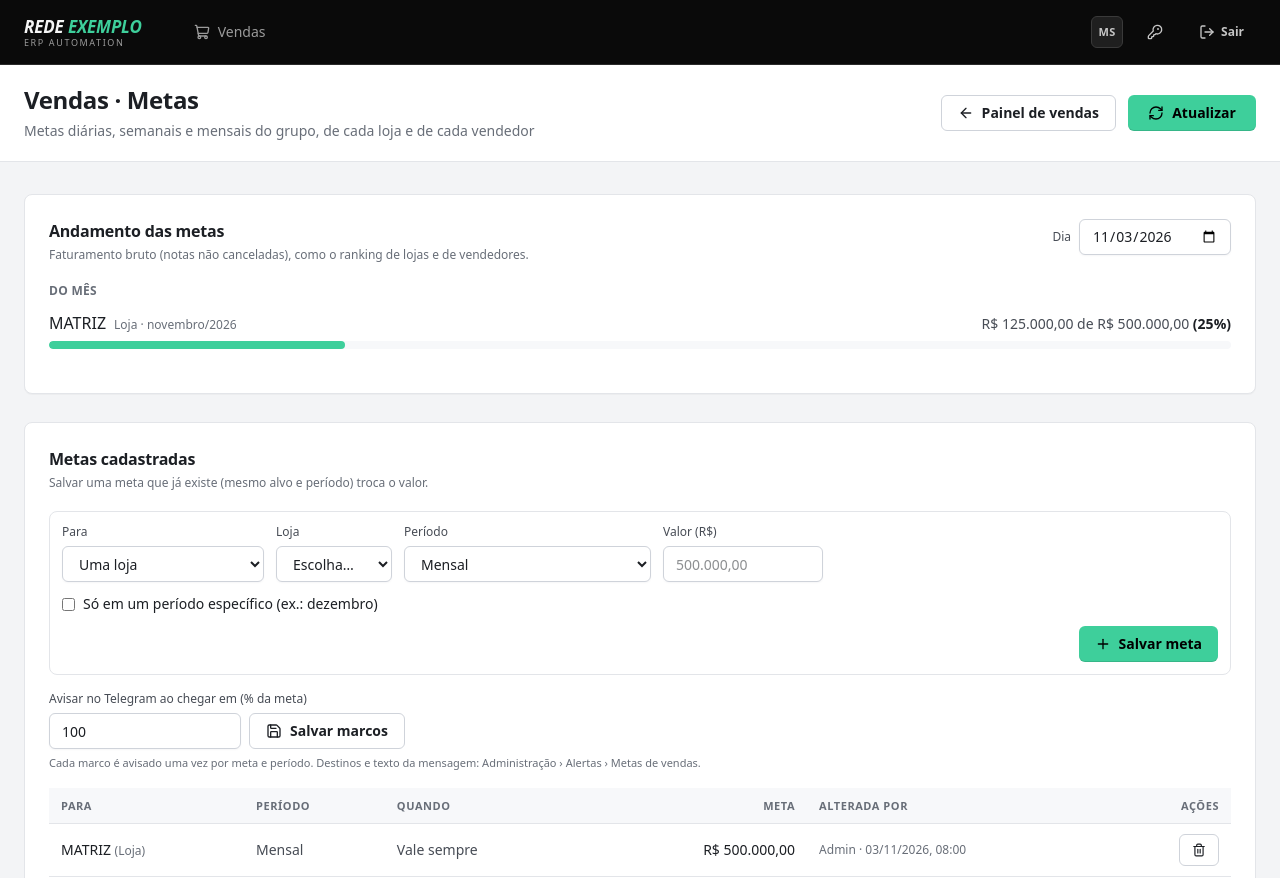
MetasPage › ADMIN cadastra a meta de um vendedor só para um mês
Select "Um vendedor" in the dropdown labelled "Para": x=163, y=564 [62,546,264,582]
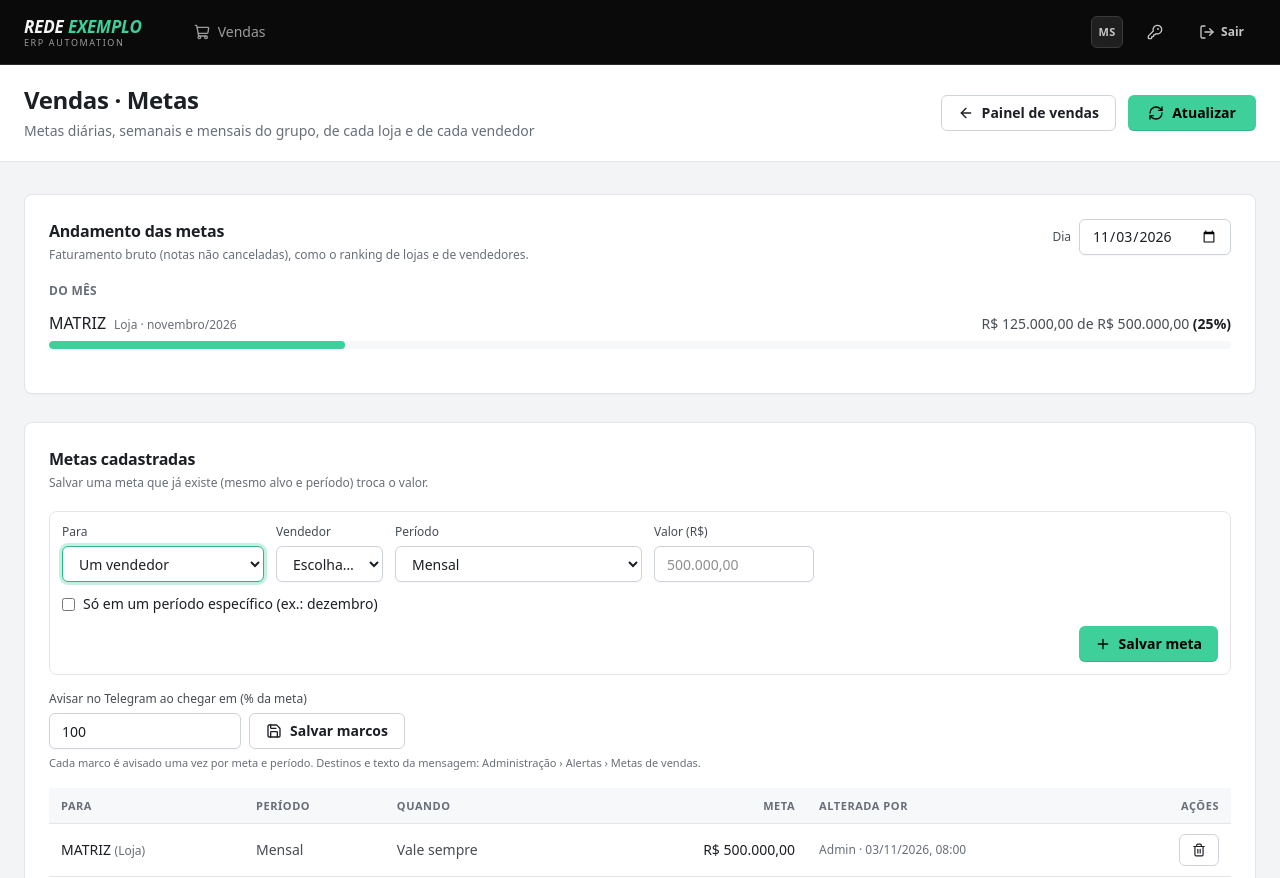
Select "CAMILA" in the dropdown labelled "Vendedor": x=330, y=564 [276,546,383,582]
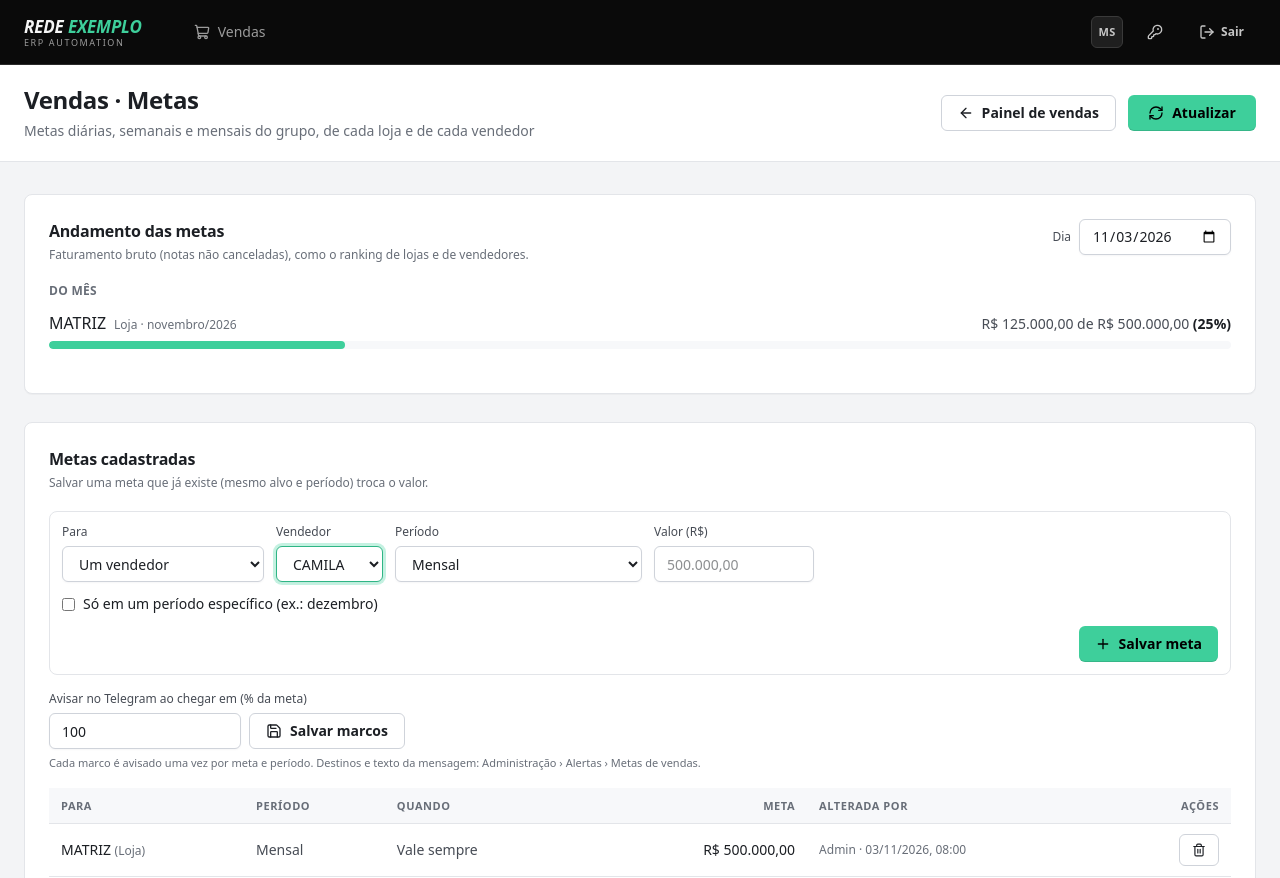
In the field labelled "Valor (R$)": x=734, y=564 [654,546,814,582], type "45.000,50"
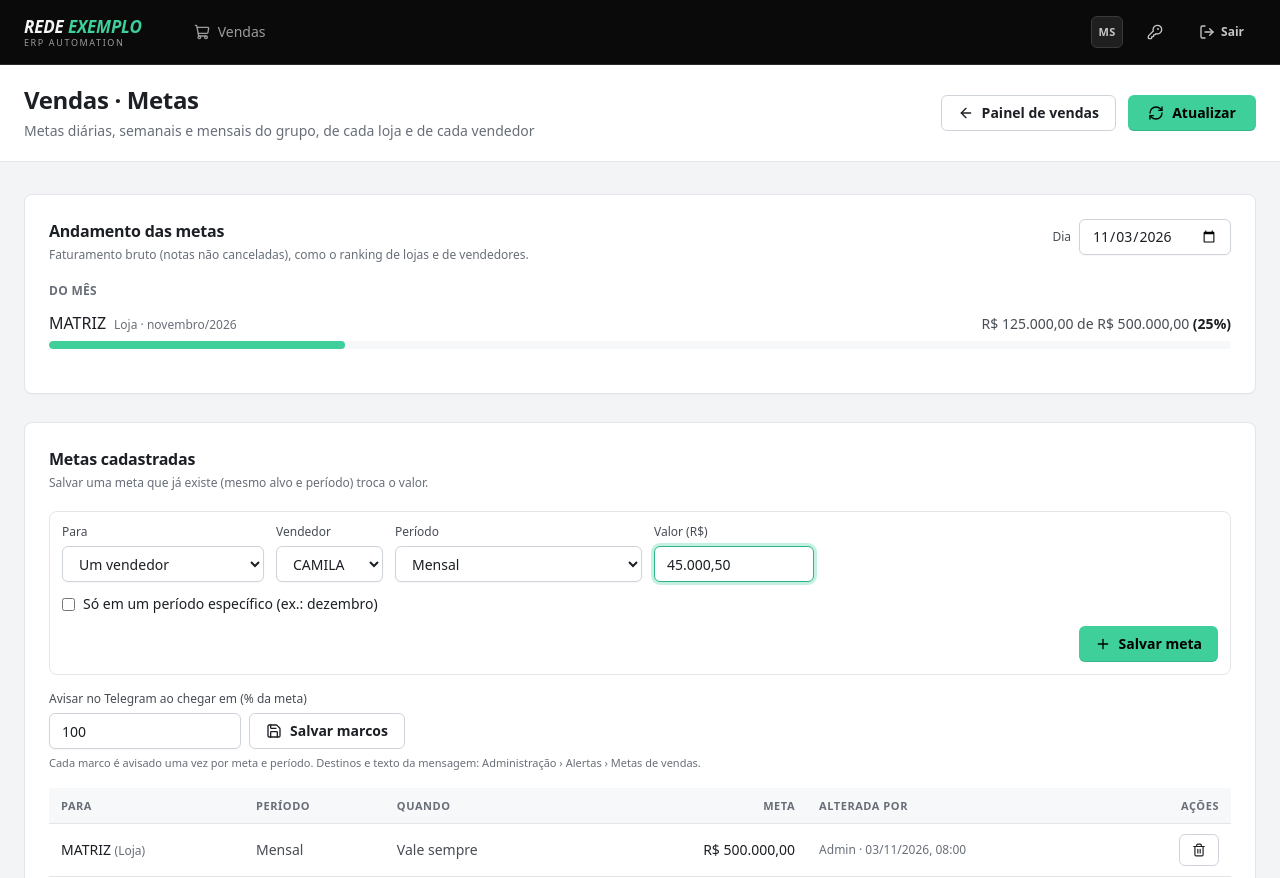
Click the checkbox labelled "Só em um período específico (ex.: dezembro)": x=68, y=604 [62,598,75,610]
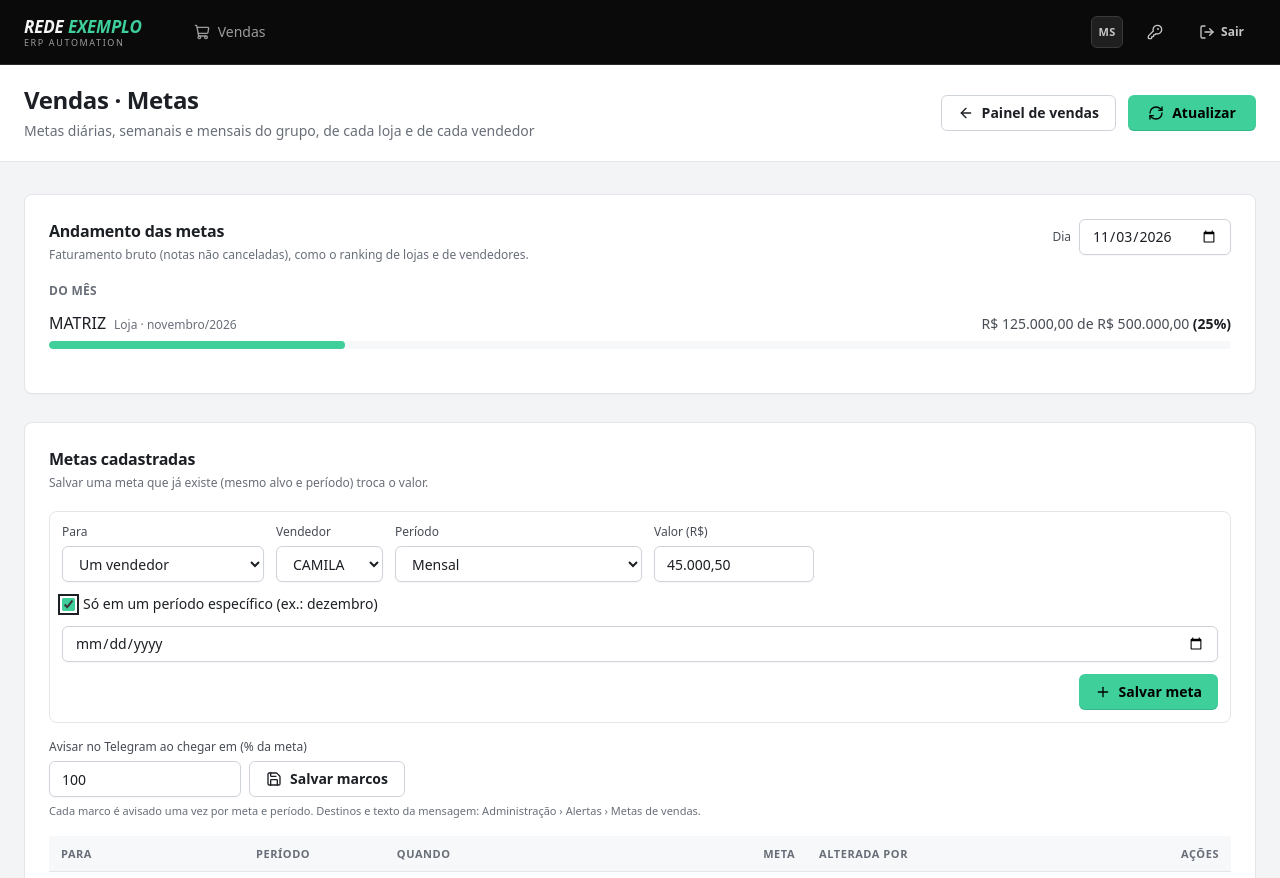
In the date field named "Data do período específico": x=640, y=644 [62,626,1218,662], type "2026-12-10"
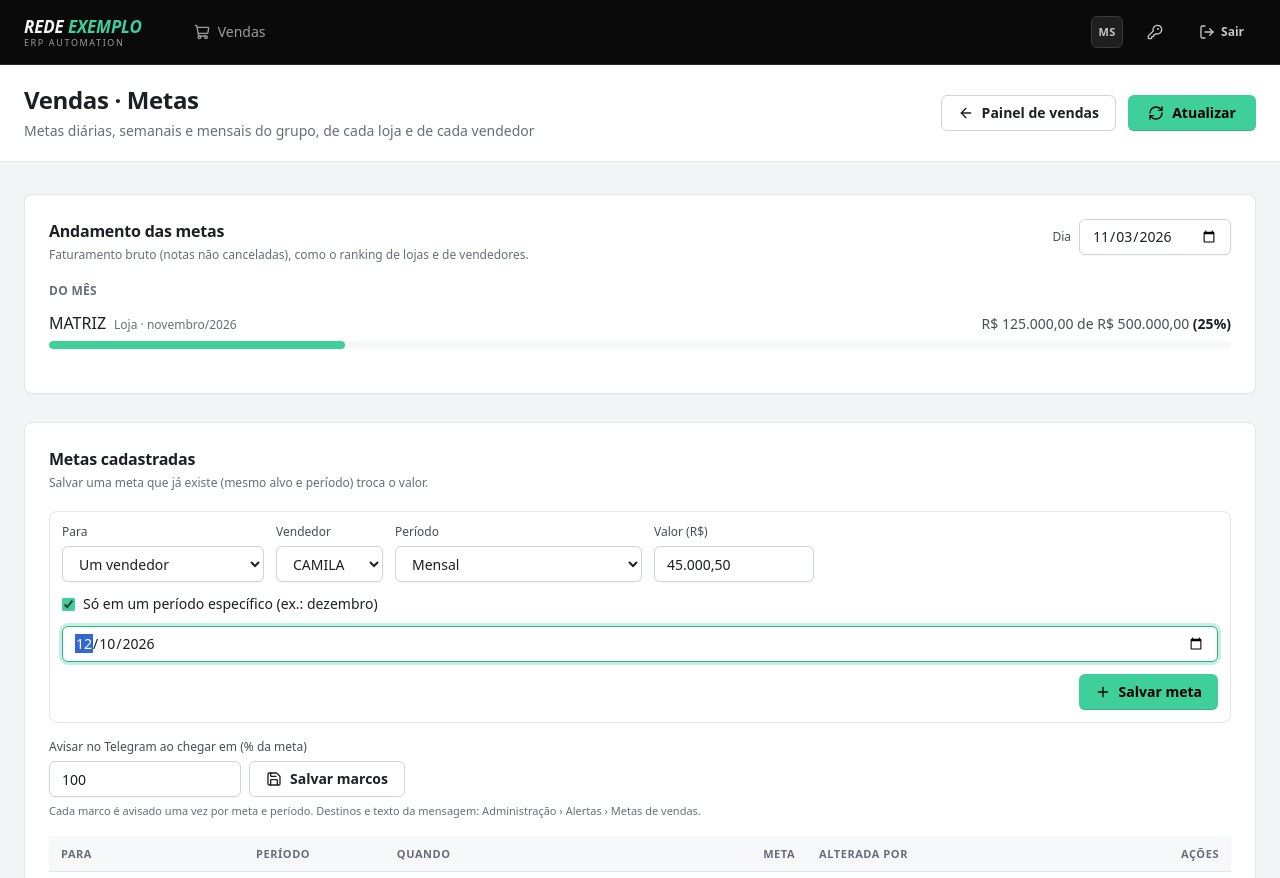
Click the button "Salvar meta": x=1148, y=692 [1079,674,1218,710]
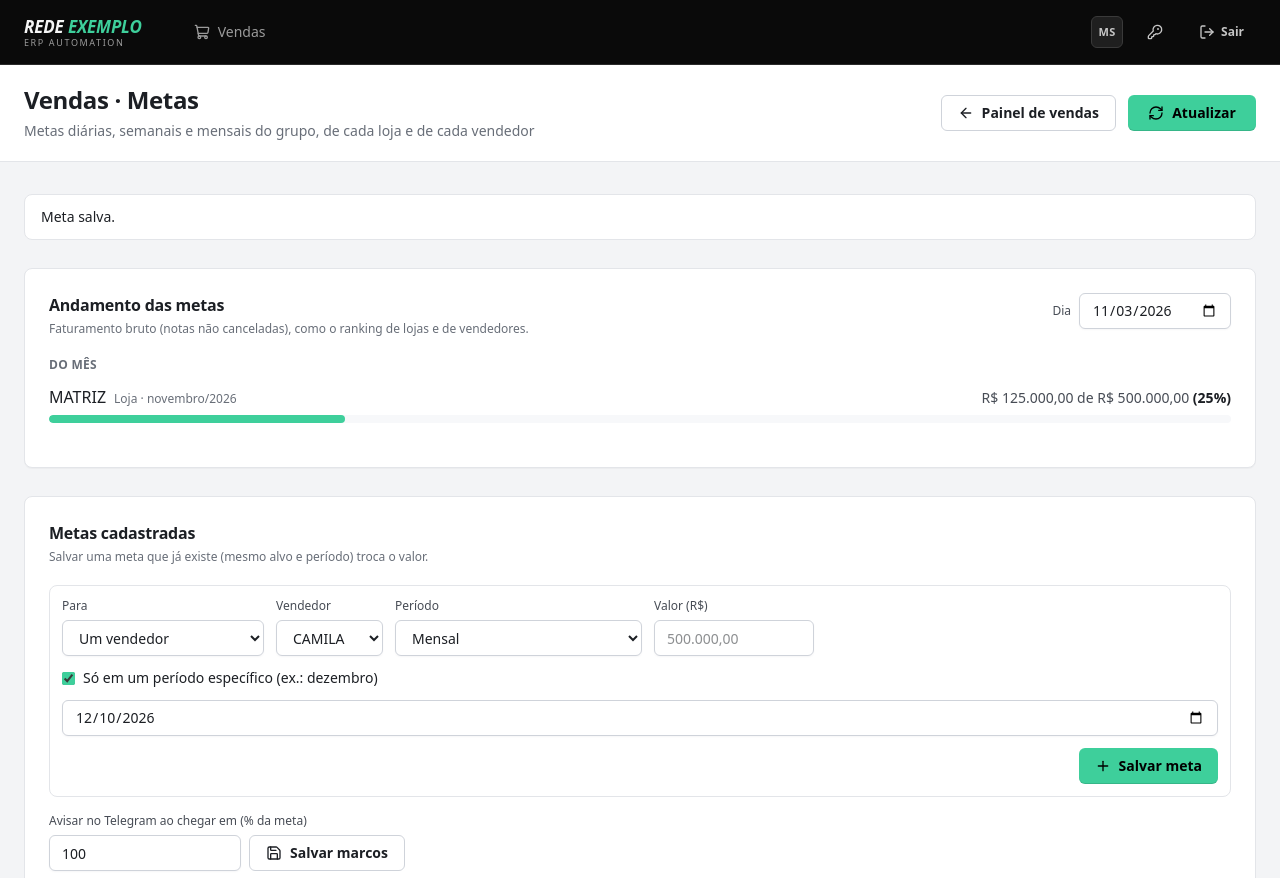
expect the text "Meta salva." is shown: met, box [24,194,1256,240]
